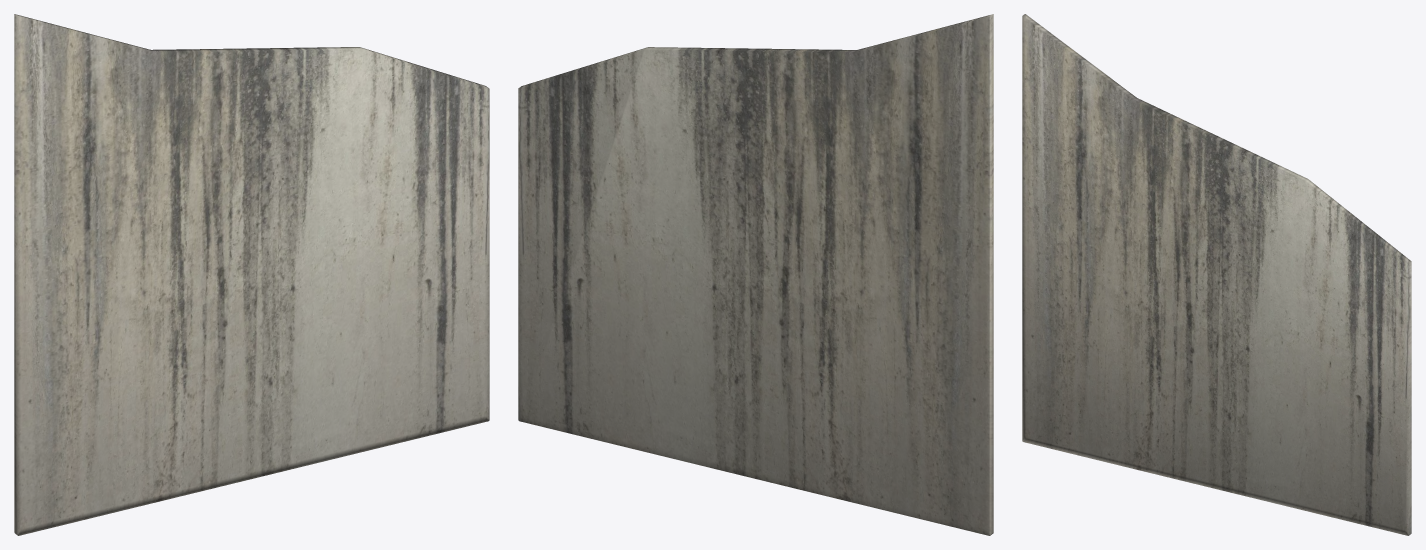
Rendered from mirror.glb.
The picture shows the model from 3 angles, left to right: view 1: azimuth 30°, elevation 25°; view 2: azimuth 150°, elevation 25°; view 3: azimuth 330°, elevation 25°; orthographic projection. The views are drawn at different scales.
Parts seen in each view (by area): view 1: Mirror; view 2: Mirror; view 3: Mirror.
Part boxes in pixels (x1=…): Mirror: x1=14, y1=14, x2=489, y2=535; Mirror: x1=518, y1=14, x2=993, y2=535; Mirror: x1=1022, y1=14, x2=1411, y2=535.
Bounding box in the file's own units: 0.4532 × 0.4768 × 0.00605.
1 material, 1 textured.
